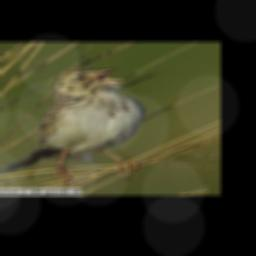Sparrow: (0, 65, 149, 183)
